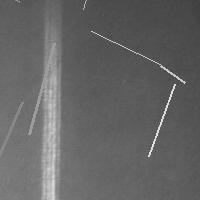scratches: (38, 10, 62, 199), (24, 38, 59, 139), (86, 26, 165, 69), (143, 79, 179, 161), (0, 97, 27, 170), (155, 60, 189, 87), (78, 0, 104, 14), (0, 0, 24, 7)
